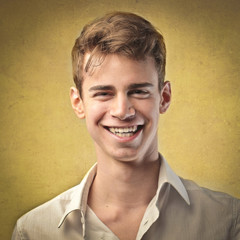teen: (74, 23, 177, 163)
